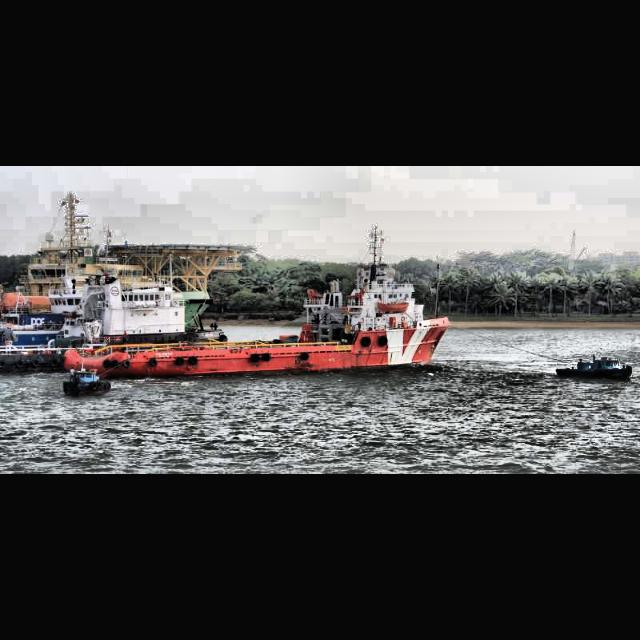anchor_handling_tug_supply: (63, 267, 450, 381)
tug: (556, 352, 634, 380), (59, 366, 112, 396)
